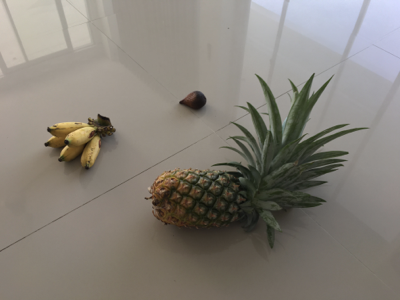banana: (43, 115, 116, 172)
pineapple: (150, 76, 370, 249)
snake fruit: (179, 90, 207, 111)
